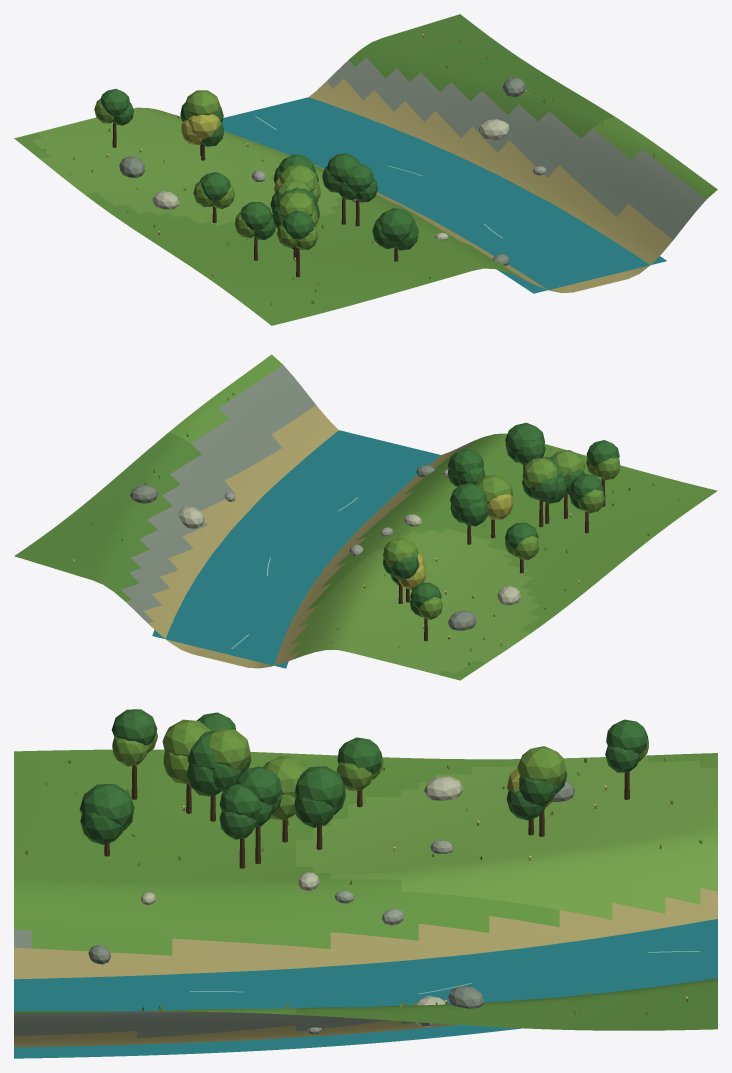
The model's file is Chunk_X0_Y0_Z3.fbx.
3 views of the same model, one above another, from view 1: azimuth 30°, elevation 25°; view 2: azimuth 150°, elevation 25°; view 3: azimuth 270°, elevation 25° (orthographic). The views are drawn at different scales.
Parts seen in each view (by area): view 1: Terrain.027, Water.006, Canopies.026, Rocks.027, Trunks.026; view 2: Terrain.027, Water.006, Canopies.026, Rocks.027, Trunks.026; view 3: Terrain.027, Water.006, Canopies.026, Rocks.027, Trunks.026, GroundCover.027.
Part boxes in pixels (box(x1,y1,x2,y2)): Terrain.027: box(14, 14, 717, 325); Water.006: box(222, 97, 666, 293); Canopies.026: box(94, 89, 418, 250); Rocks.027: box(119, 77, 545, 265); Trunks.026: box(112, 123, 398, 277); Terrain.027: box(14, 354, 717, 680); Water.006: box(152, 430, 440, 668); Canopies.026: box(383, 422, 620, 619); Rocks.027: box(130, 465, 520, 630); Trunks.026: box(398, 465, 605, 641); Terrain.027: box(14, 749, 717, 1047); Water.006: box(14, 919, 717, 1058); Canopies.026: box(79, 709, 648, 844); Rocks.027: box(88, 776, 575, 1034); Trunks.026: box(104, 765, 629, 868); GroundCover.027: box(24, 757, 702, 1014).
Bounding box in the file's own units: 100 × 22.79 × 100.
